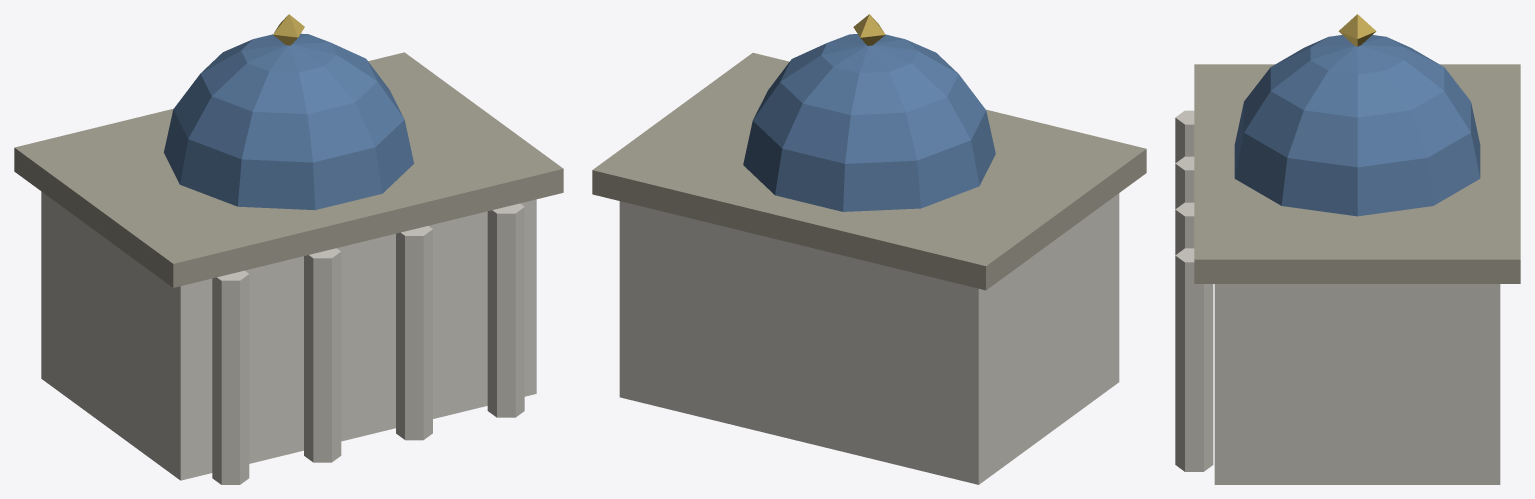
Rendered from academy.glb.
3 views of the same model, side by side, from view 1: azimuth 30°, elevation 25°; view 2: azimuth 150°, elevation 25°; view 3: azimuth 270°, elevation 25° (orthographic). The views are drawn at different scales.
Visible parts, largest first — view 1: academy; view 2: academy; view 3: academy.
Boxes of the visible parts, x1,y1,x2,y2 form: academy: [14, 14, 563, 484]; academy: [592, 14, 1146, 484]; academy: [1175, 14, 1520, 484].
Size of the model in its own units: 0.34 by 0.31 by 0.254.
